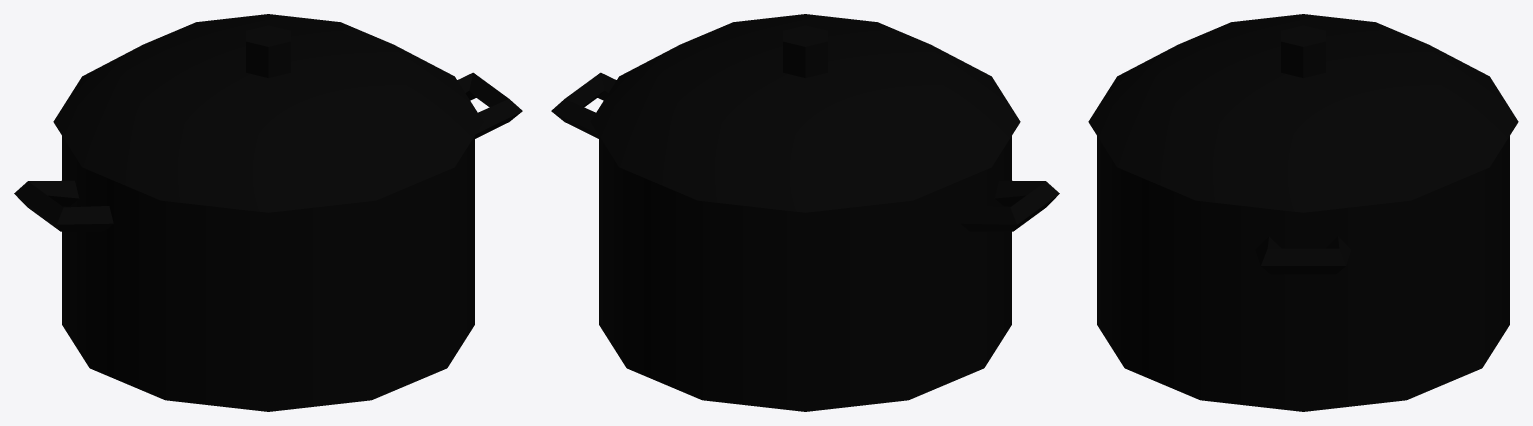
The model's file is SM_pot_enamel.fbx.
3 views of the same model, side by side, from view 1: azimuth 30°, elevation 25°; view 2: azimuth 150°, elevation 25°; view 3: azimuth 270°, elevation 25° (orthographic).
Visible parts, largest first — view 1: pot_enamel, pot_enamel_lid; view 2: pot_enamel, pot_enamel_lid; view 3: pot_enamel, pot_enamel_lid.
Part boxes in pixels (<box>): pot_enamel: <box>14,72,522,411</box>; pot_enamel_lid: <box>53,14,483,212</box>; pot_enamel: <box>551,72,1059,411</box>; pot_enamel_lid: <box>590,14,1020,212</box>; pot_enamel: <box>1097,136,1509,411</box>; pot_enamel_lid: <box>1088,14,1518,212</box>.
Bounding box in the file's own units: 0.3128 × 0.185 × 0.25.
